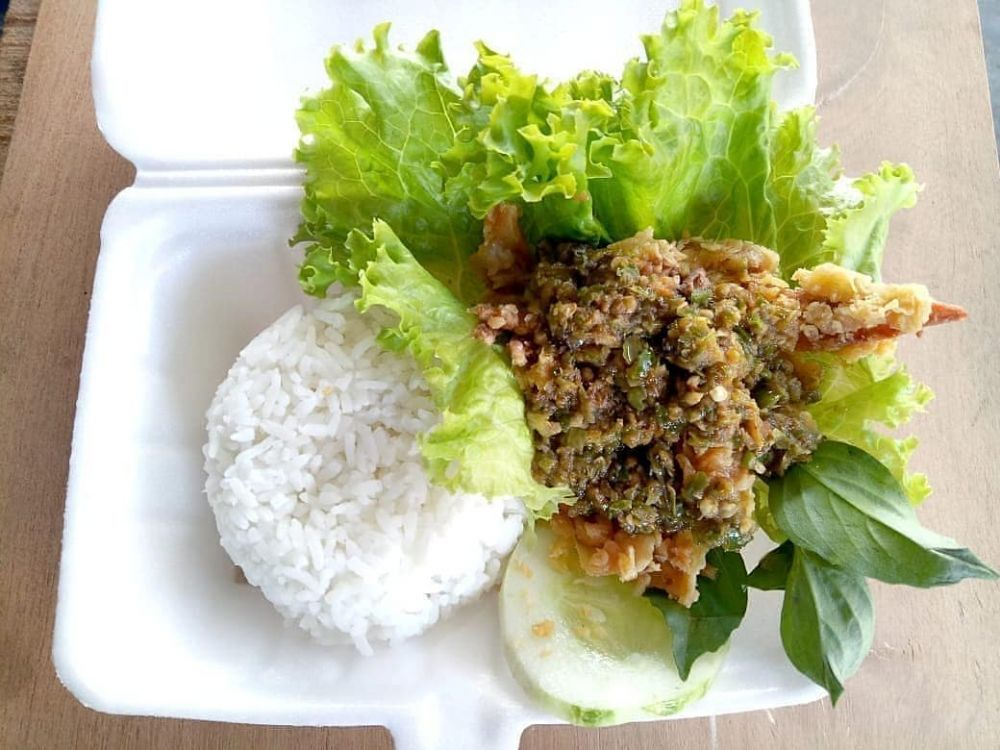ayam_geprek: (490, 225, 925, 613)
